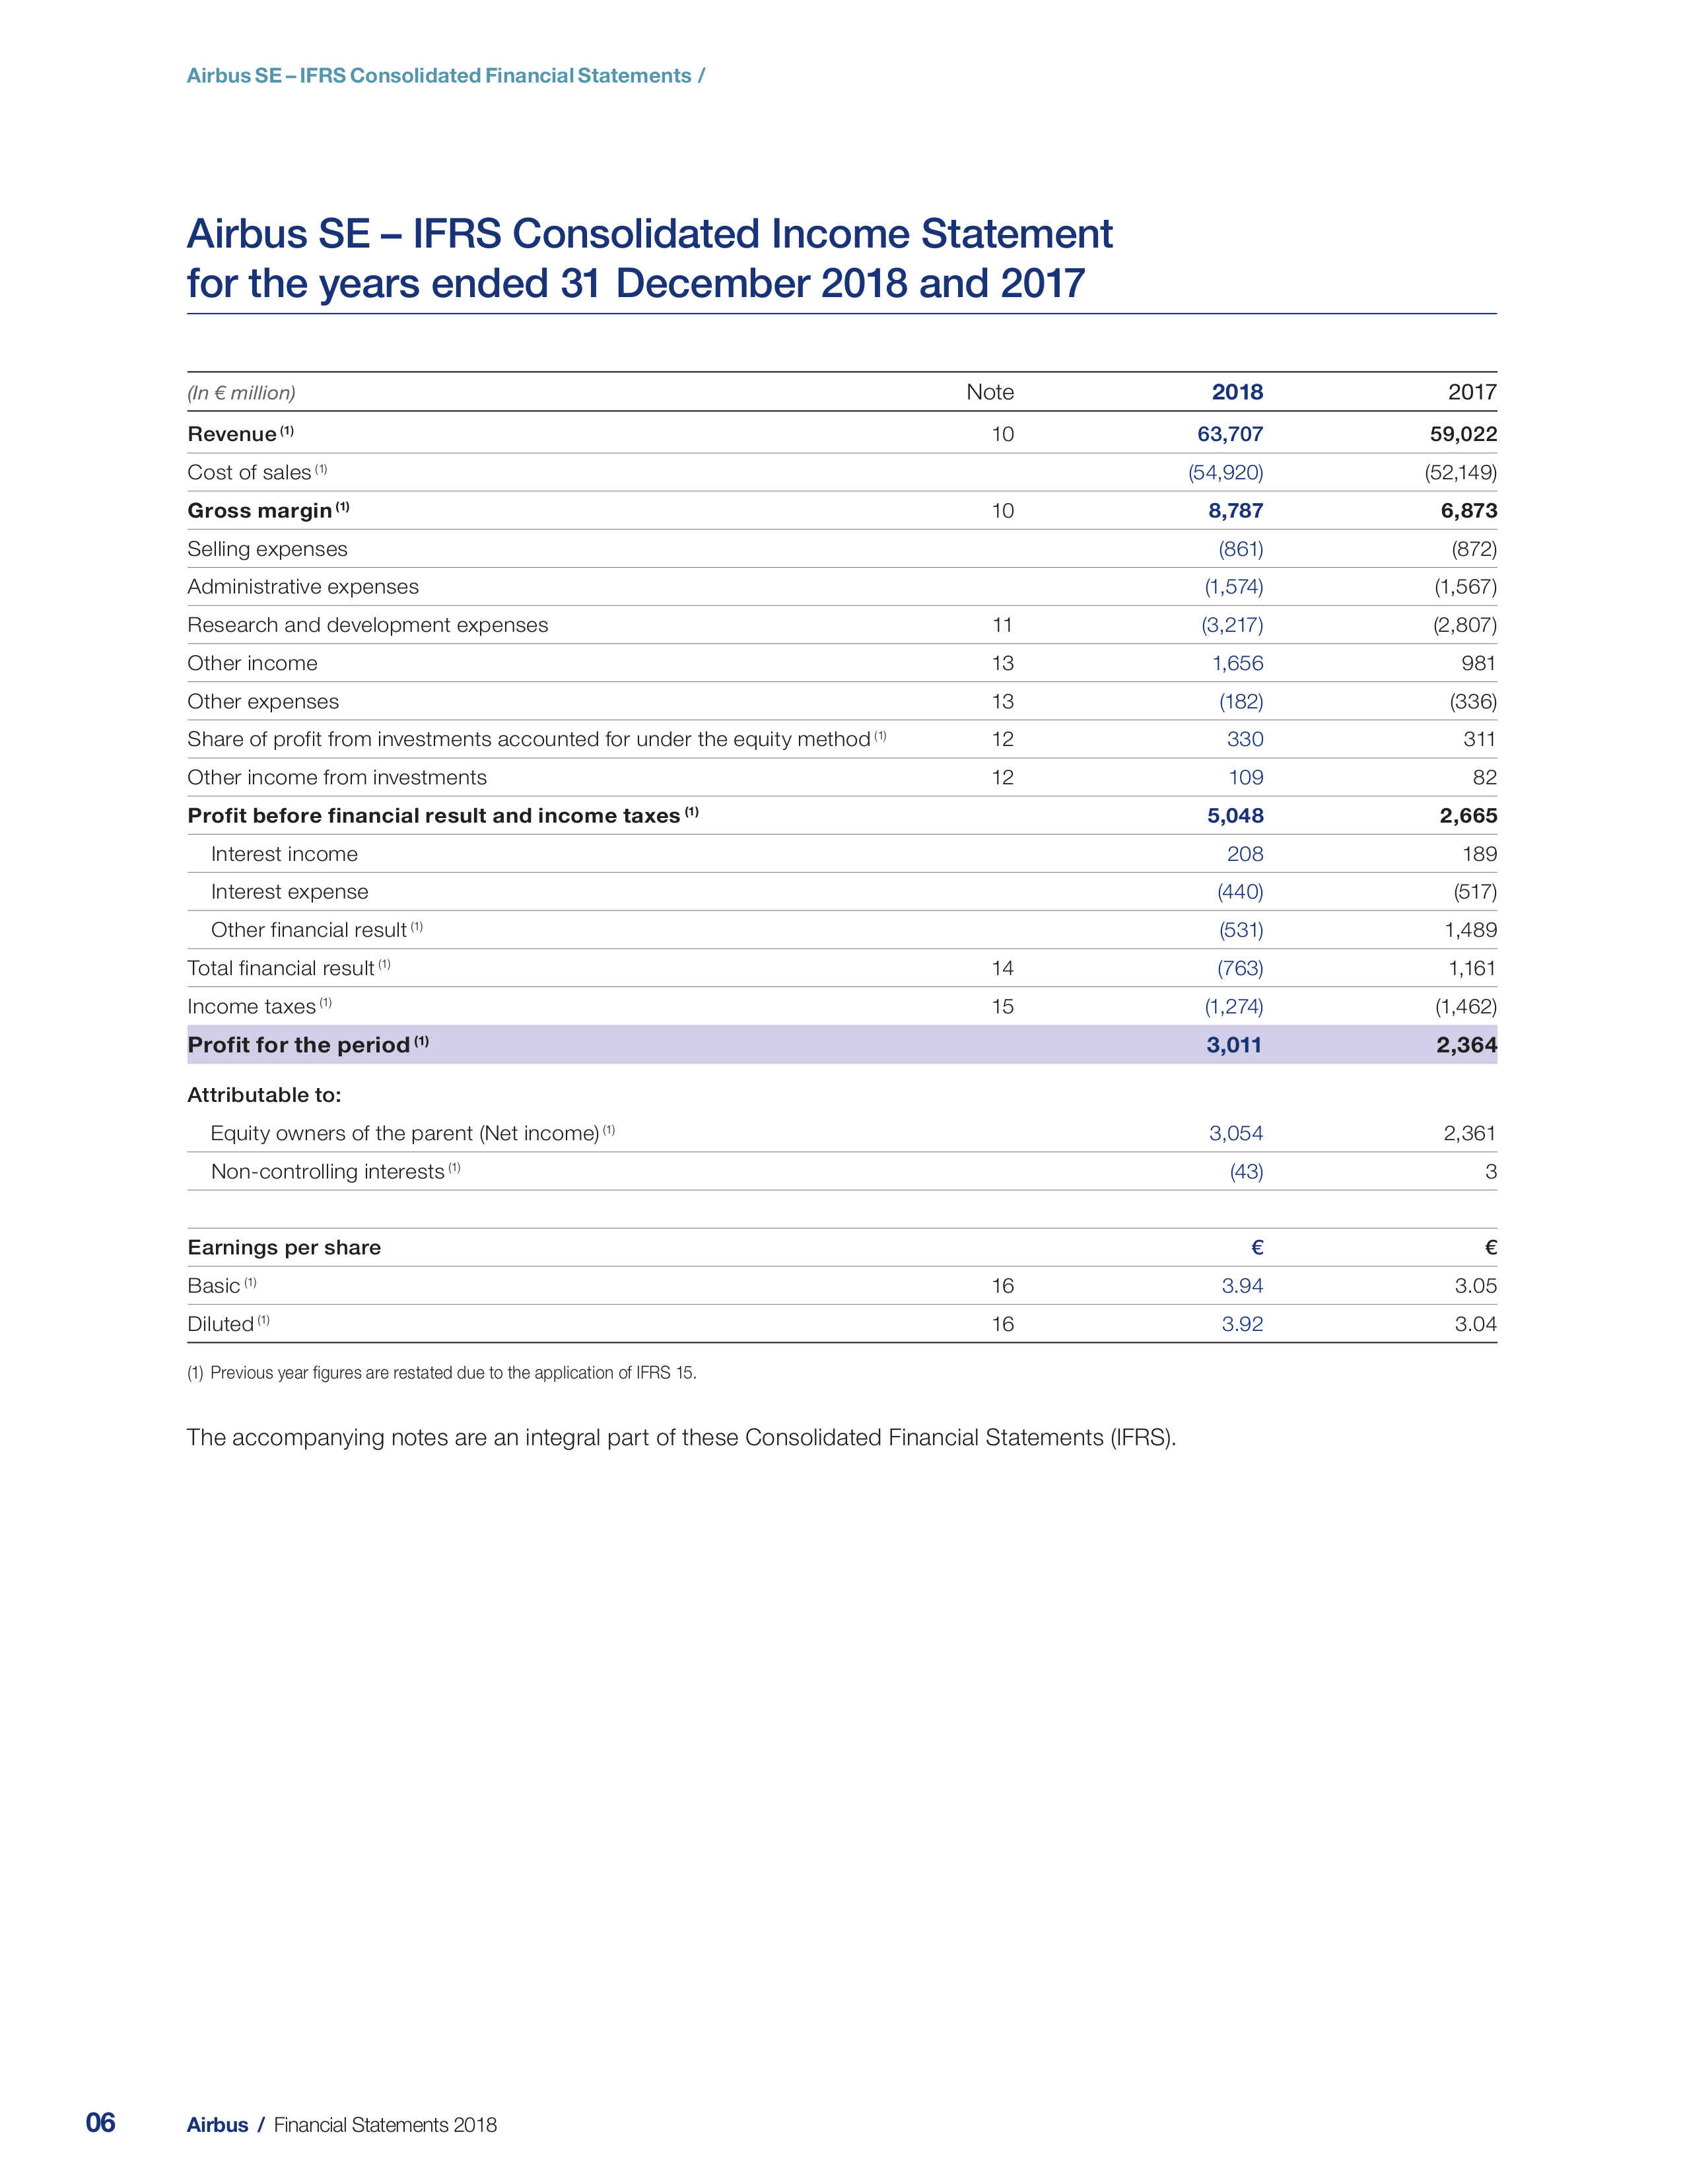income_statement: (161, 347, 1522, 1361)
